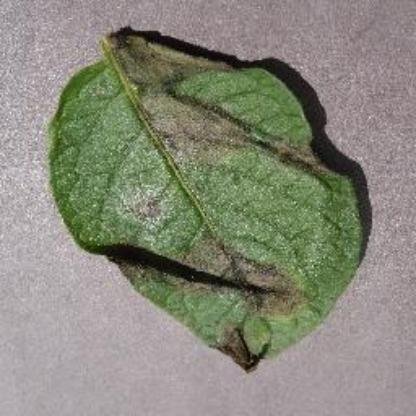Late-Blight: (46, 17, 374, 388)
